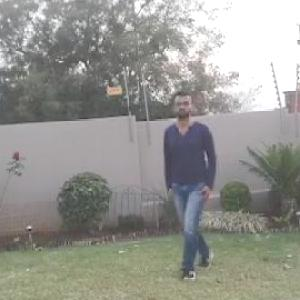follow: (164, 91, 215, 273)
